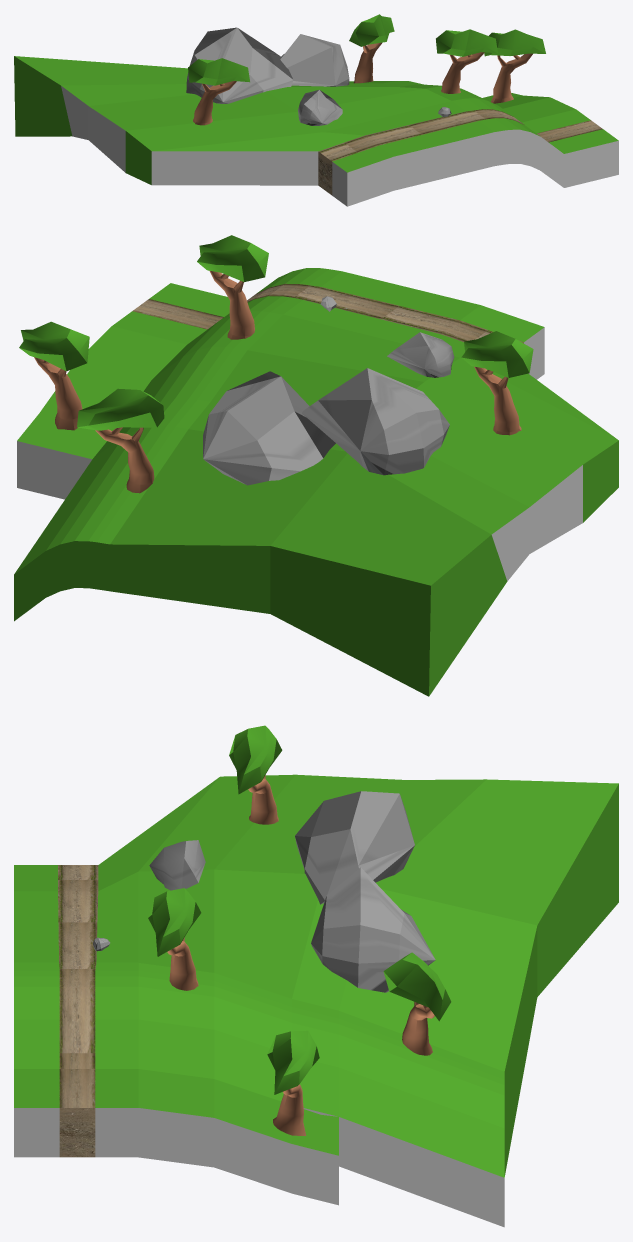
Rendered from meadow_data.fbx.
The picture shows the model from 3 angles, top to bottom: view 1: azimuth 30°, elevation 25°; view 2: azimuth 150°, elevation 25°; view 3: azimuth 270°, elevation 25°; orthographic projection. The views are drawn at different scales.
Parts seen in each view (by area): view 1: Mesh, Mesh (2), Mesh (6), Mesh (7), Mesh (2) (2) (2), Mesh (2) (2) (3), Mesh (5), Mesh (2) (2) (4), Mesh (2) (2), Mesh (3) (4), Mesh (3) (3), Mesh (3) (2) (+1 smaller); view 2: Mesh, Mesh (2), Mesh (7), Mesh (6), Mesh (2) (2), Mesh (2) (2) (4), Mesh (2) (2) (3), Mesh (2) (2) (2), Mesh (5), Mesh (3), Mesh (3) (4), Mesh (3) (2) (+1 smaller); view 3: Mesh, Mesh (2), Mesh (6), Mesh (7), Mesh (2) (2), Mesh (2) (2) (3), Mesh (2) (2) (2), Mesh (2) (2) (4), Mesh (5), Mesh (3), Mesh (3) (4), Mesh (3) (2) (+1 smaller).
Part boxes in pixels (x1=…): Mesh: x1=14, y1=56, x2=563, y2=206; Mesh (2): x1=482, y1=93, x2=618, y2=187; Mesh (6): x1=186, y1=27, x2=293, y2=103; Mesh (7): x1=280, y1=34, x2=349, y2=86; Mesh (2) (2) (2): x1=436, y1=29, x2=497, y2=56; Mesh (2) (2) (3): x1=188, y1=58, x2=249, y2=85; Mesh (5): x1=298, y1=89, x2=342, y2=125; Mesh (2) (2) (4): x1=484, y1=29, x2=545, y2=56; Mesh (2) (2): x1=349, y1=14, x2=394, y2=46; Mesh (3) (4): x1=491, y1=53, x2=532, y2=103; Mesh (3) (3): x1=193, y1=81, x2=236, y2=125; Mesh (3) (2): x1=441, y1=52, x2=484, y2=93; Mesh: x1=14, y1=268, x2=618, y2=696; Mesh (2): x1=17, y1=283, x2=229, y2=499; Mesh (7): x1=203, y1=371, x2=335, y2=485; Mesh (6): x1=302, y1=368, x2=449, y2=475; Mesh (2) (2): x1=77, y1=388, x2=164, y2=430; Mesh (2) (2) (4): x1=19, y1=321, x2=89, y2=371; Mesh (2) (2) (3): x1=461, y1=331, x2=533, y2=377; Mesh (2) (2) (2): x1=197, y1=235, x2=268, y2=282; Mesh (5): x1=387, y1=332, x2=454, y2=377; Mesh (3): x1=95, y1=427, x2=154, y2=493; Mesh (3) (4): x1=34, y1=357, x2=82, y2=430; Mesh (3) (2): x1=209, y1=270, x2=254, y2=339; Mesh: x1=14, y1=774, x2=618, y2=1227; Mesh (2): x1=14, y1=1069, x2=338, y2=1205; Mesh (6): x1=295, y1=791, x2=414, y2=904; Mesh (7): x1=311, y1=867, x2=435, y2=992; Mesh (2) (2): x1=383, y1=952, x2=451, y2=1021; Mesh (2) (2) (3): x1=229, y1=725, x2=282, y2=794; Mesh (2) (2) (2): x1=148, y1=888, x2=201, y2=956; Mesh (2) (2) (4): x1=267, y1=1030, x2=319, y2=1094; Mesh (5): x1=149, y1=840, x2=205, y2=890; Mesh (3): x1=402, y1=1002, x2=434, y2=1055; Mesh (3) (4): x1=273, y1=1084, x2=306, y2=1135; Mesh (3) (2): x1=167, y1=937, x2=198, y2=990.
Size of the model in its own units: 22482 by 10911 by 19570.
7 materials, 6 textured.
